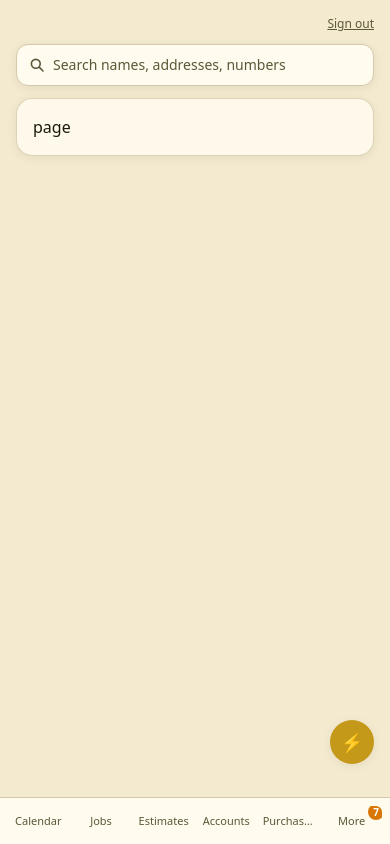
Test: AppShell: the Messages badge › shows the count beside Messages in the sidebar and adds it to More's badge on a phone
This screenshot has width=390, height=844.
Click the button "More 7": (352, 821) [321,806,382,836]
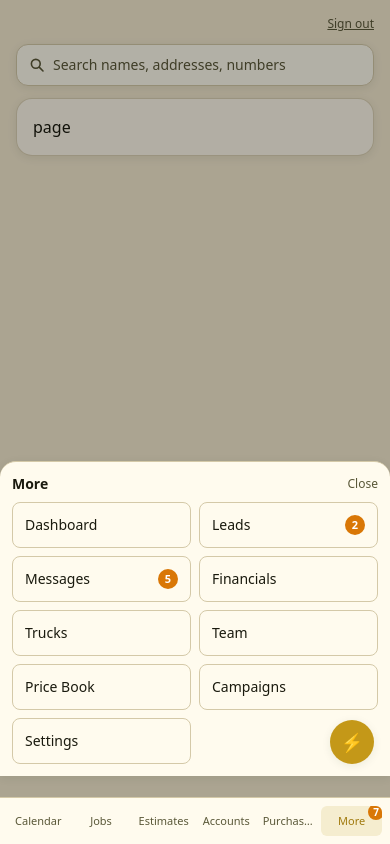
Now the link "Messages 5" is shown, box [12,556,191,602]
